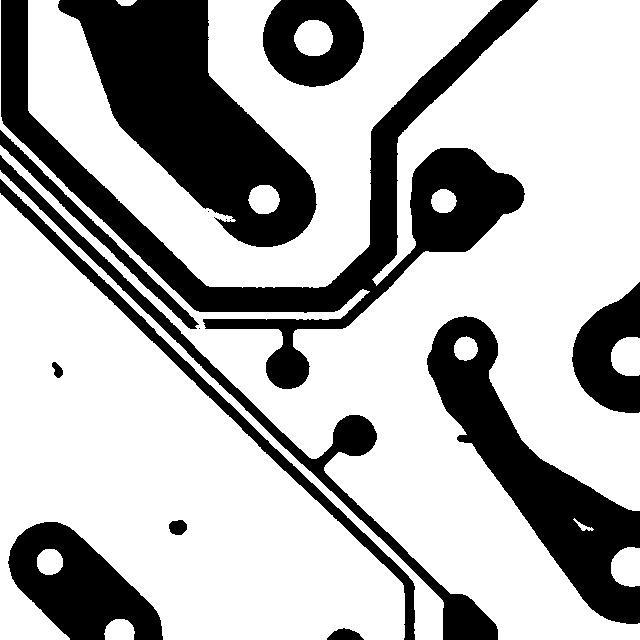copper: (159, 510, 196, 544), (42, 352, 72, 387)
mousebite: (192, 198, 245, 231)
open: (184, 308, 215, 338)
pin-hole: (563, 508, 603, 540)
short: (351, 270, 386, 300)
spur: (447, 423, 485, 452)
